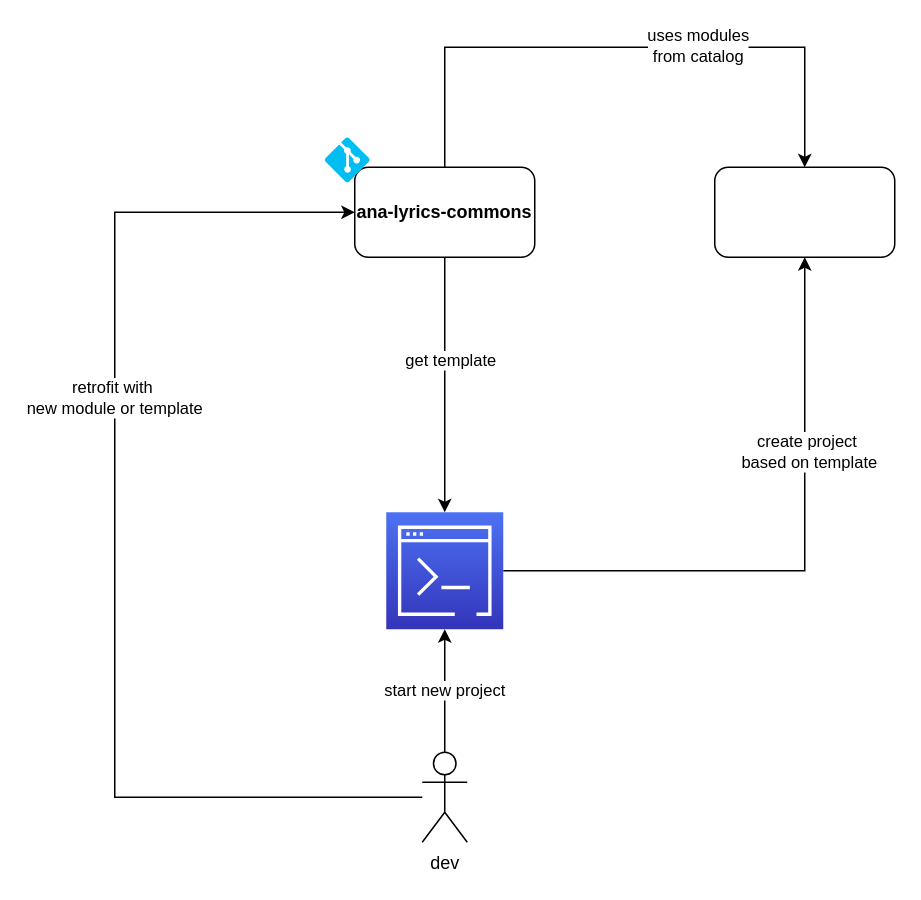
Image size: 921x900. Some labels were removed from this diagram. The shapes that lost their labels are listed below. From the top down, each one's centre as x and y in pixels, then its label:
pixel 804 211: project A
pixel 444 570: ana cli
